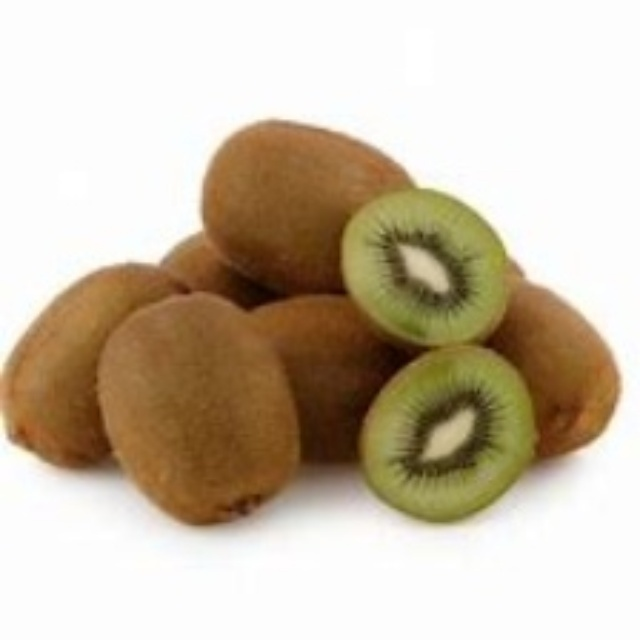kiwi: (343, 190, 538, 518), (111, 299, 299, 528), (5, 260, 189, 463), (212, 128, 410, 277), (489, 274, 618, 457), (247, 299, 391, 444)
